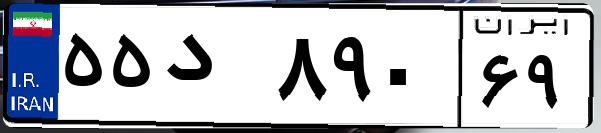0: (385, 28, 445, 110)
5: (57, 26, 110, 100), (110, 28, 158, 98)
6: (475, 38, 525, 113)
8: (270, 28, 330, 110)
9: (330, 28, 385, 110), (525, 38, 570, 115)
د: (158, 20, 270, 120)
